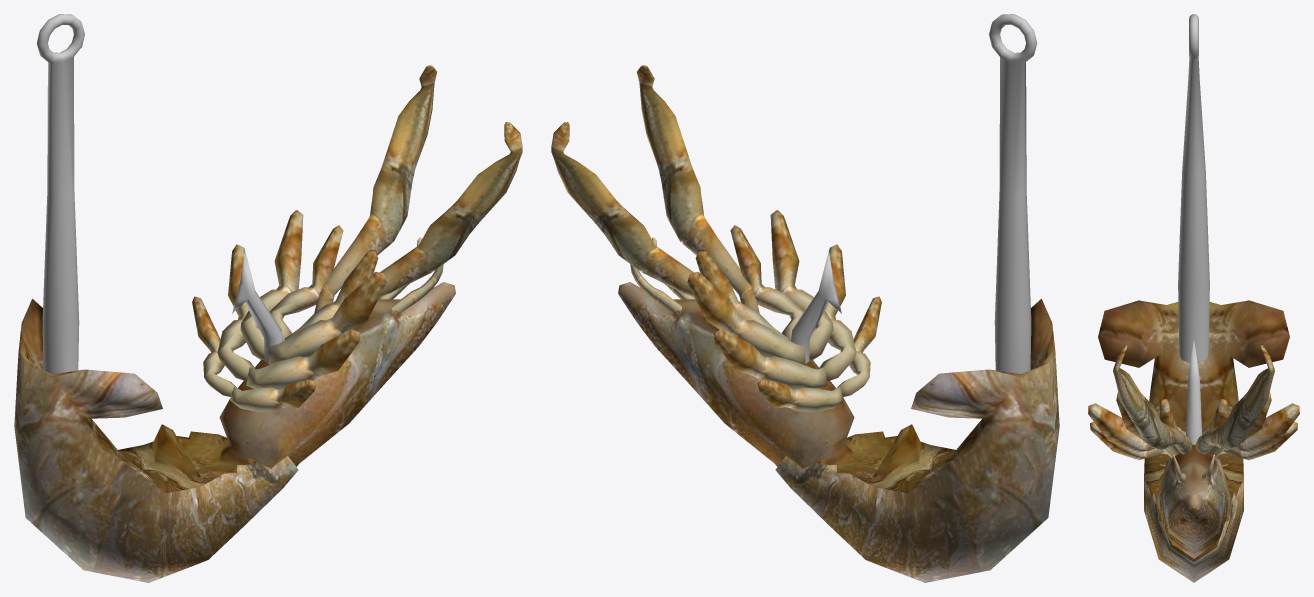
Rendered from Bait_MudShrimp.fbx.
3 renders of one model, left to right at view 1: azimuth 30°, elevation 25°; view 2: azimuth 150°, elevation 25°; view 3: azimuth 270°, elevation 25°, orthographic. The views are drawn at different scales.
Visible parts, largest first — view 1: Bait_JapaneseMudShrimp; view 2: Bait_JapaneseMudShrimp; view 3: Bait_JapaneseMudShrimp.
Part boxes in pixels (bbox=[...]): Bait_JapaneseMudShrimp: bbox=[14, 14, 522, 582]; Bait_JapaneseMudShrimp: bbox=[551, 14, 1059, 582]; Bait_JapaneseMudShrimp: bbox=[1088, 14, 1299, 582].
Bounding box in the file's own units: 0.3879 × 0.4745 × 0.1772.
